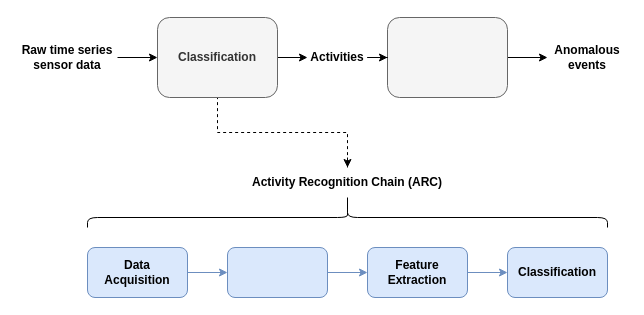
Image size: 644x315. Some labels were removed from this diagram. The shapes that lost their labels are listed below. From the top down, each one's box as (x1, y1, x2, y2) in pixels, then its label:
(386, 16, 508, 98): Anomaly Detection
(226, 246, 328, 298): Data Preprocessing
